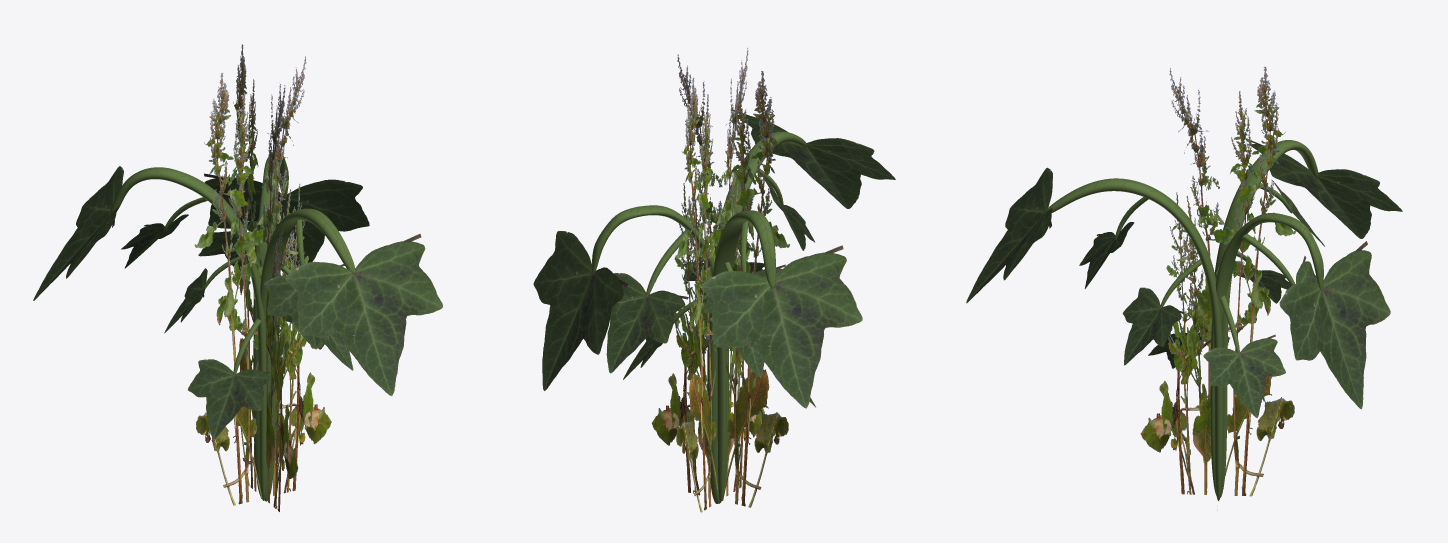
File: plant2.fbx
The picture shows the model from 3 angles, left to right: view 1: azimuth 30°, elevation 25°; view 2: azimuth 150°, elevation 25°; view 3: azimuth 270°, elevation 25°; orthographic projection. The views are drawn at different scales.
Visible parts, largest first — view 1: Foliage; view 2: Foliage; view 3: Foliage.
Part boxes in pixels (left/top/right/bottom): Foliage: left=33, top=44, right=442, bottom=511; Foliage: left=533, top=48, right=895, bottom=512; Foliage: left=966, top=66, right=1402, bottom=510.
Bounding box in the file's own units: 108 × 127 × 123.
Materials: 3 (3 with a texture image).
